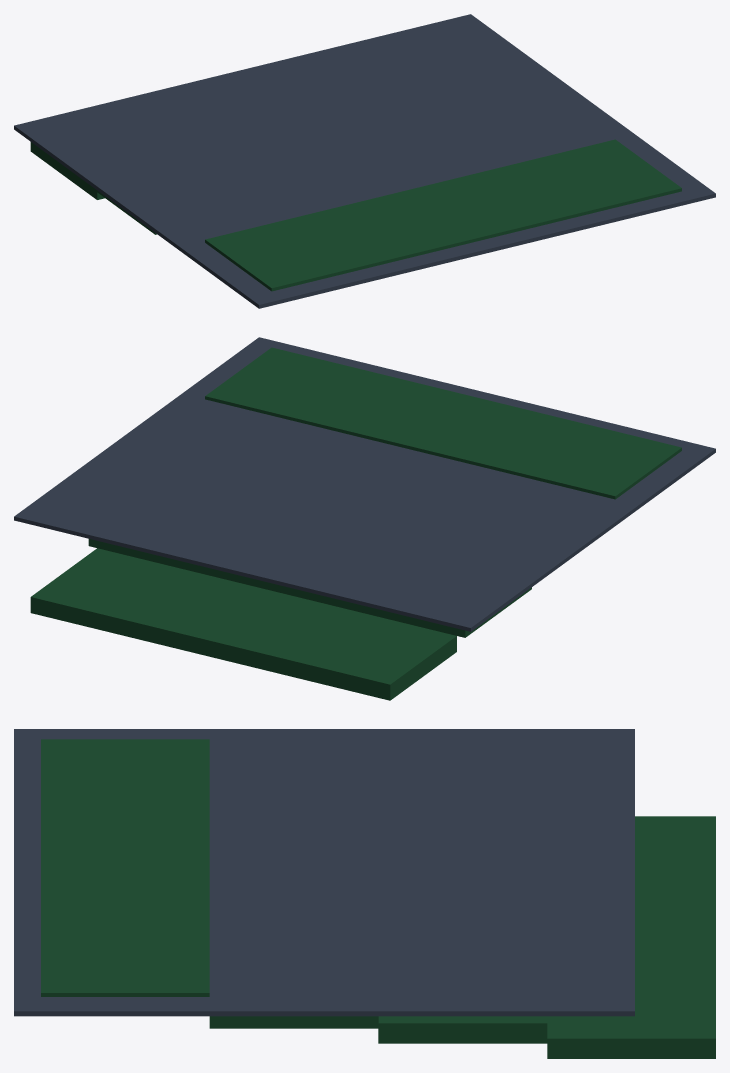
The model's file is hillstandC2.glb.
3 renders of one model, top to bottom at view 1: azimuth 30°, elevation 25°; view 2: azimuth 150°, elevation 25°; view 3: azimuth 270°, elevation 25°, orthographic. The views are drawn at different scales.
Visible parts, largest first — view 1: hillstandC2; view 2: hillstandC2; view 3: hillstandC2.
Part boxes in pixels (x1,y1,x2,y2): hillstandC2: [14, 14, 715, 308]; hillstandC2: [14, 337, 715, 700]; hillstandC2: [14, 729, 715, 1058].
Bounding box in the file's own units: 14.85 × 2 × 15.6.
